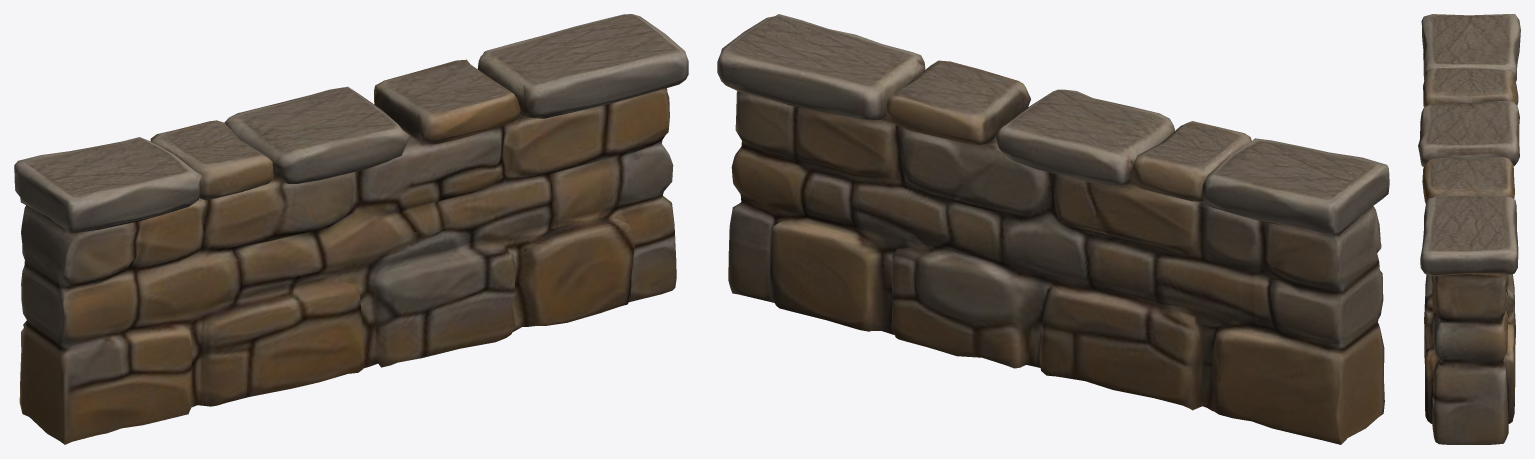
File: mt_muro_inteiro.glb
3 renders of one model, left to right at view 1: azimuth 30°, elevation 25°; view 2: azimuth 150°, elevation 25°; view 3: azimuth 270°, elevation 25°, orthographic. The views are drawn at different scales.
Visible parts, largest first — view 1: Mesh_0; view 2: Mesh_0; view 3: Mesh_0.
Part boxes in pixels (bbox=[...]): Mesh_0: bbox=[14, 14, 688, 444]; Mesh_0: bbox=[717, 14, 1389, 444]; Mesh_0: bbox=[1418, 14, 1520, 444].
Bounding box in the file's own units: 0.3467 × 0.134 × 0.0624.
1 material, 1 textured.
